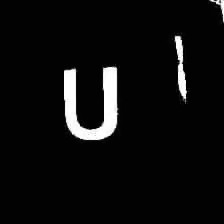LTR_U: (60, 58, 121, 144)
